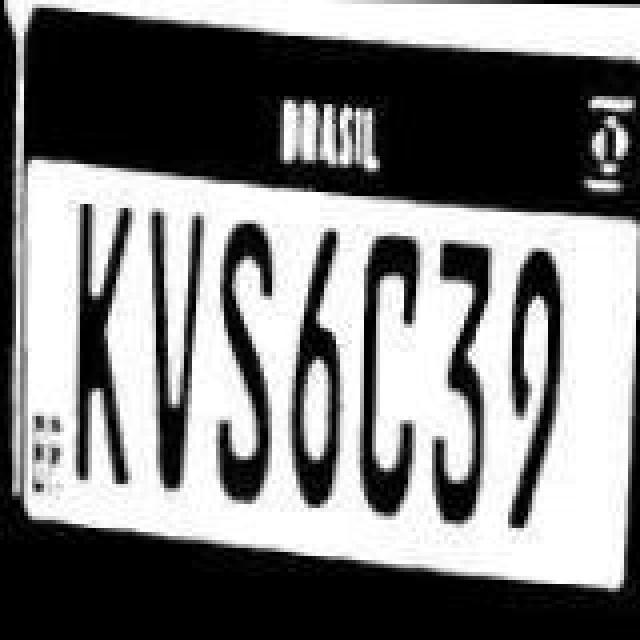3: (422, 218, 490, 522)
6: (286, 212, 346, 508)
9: (498, 214, 566, 530)
C: (352, 216, 432, 516)
K: (66, 204, 142, 500)
S: (210, 216, 286, 516)
V: (142, 210, 210, 498)
